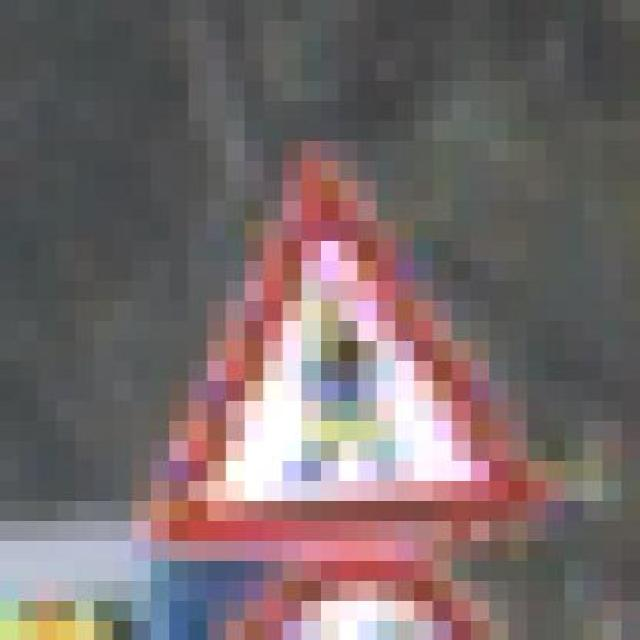Pedestrian Crossing: (93, 120, 564, 560)
